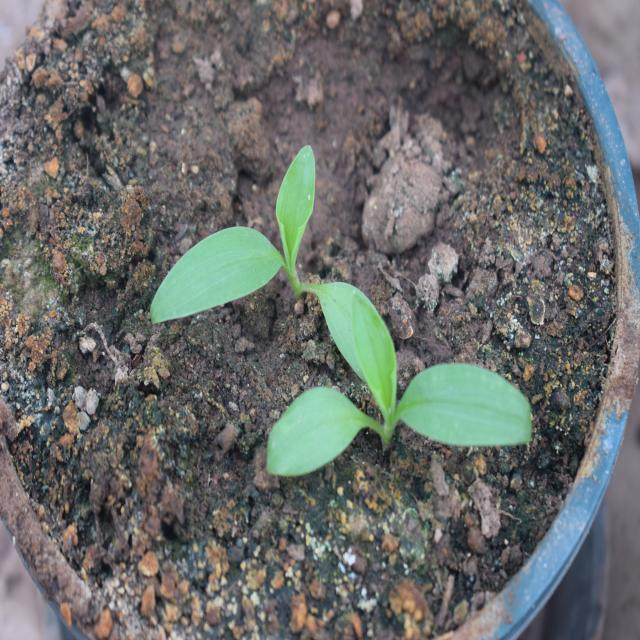Common Dayflower: (272, 302, 512, 479), (136, 178, 374, 342)
